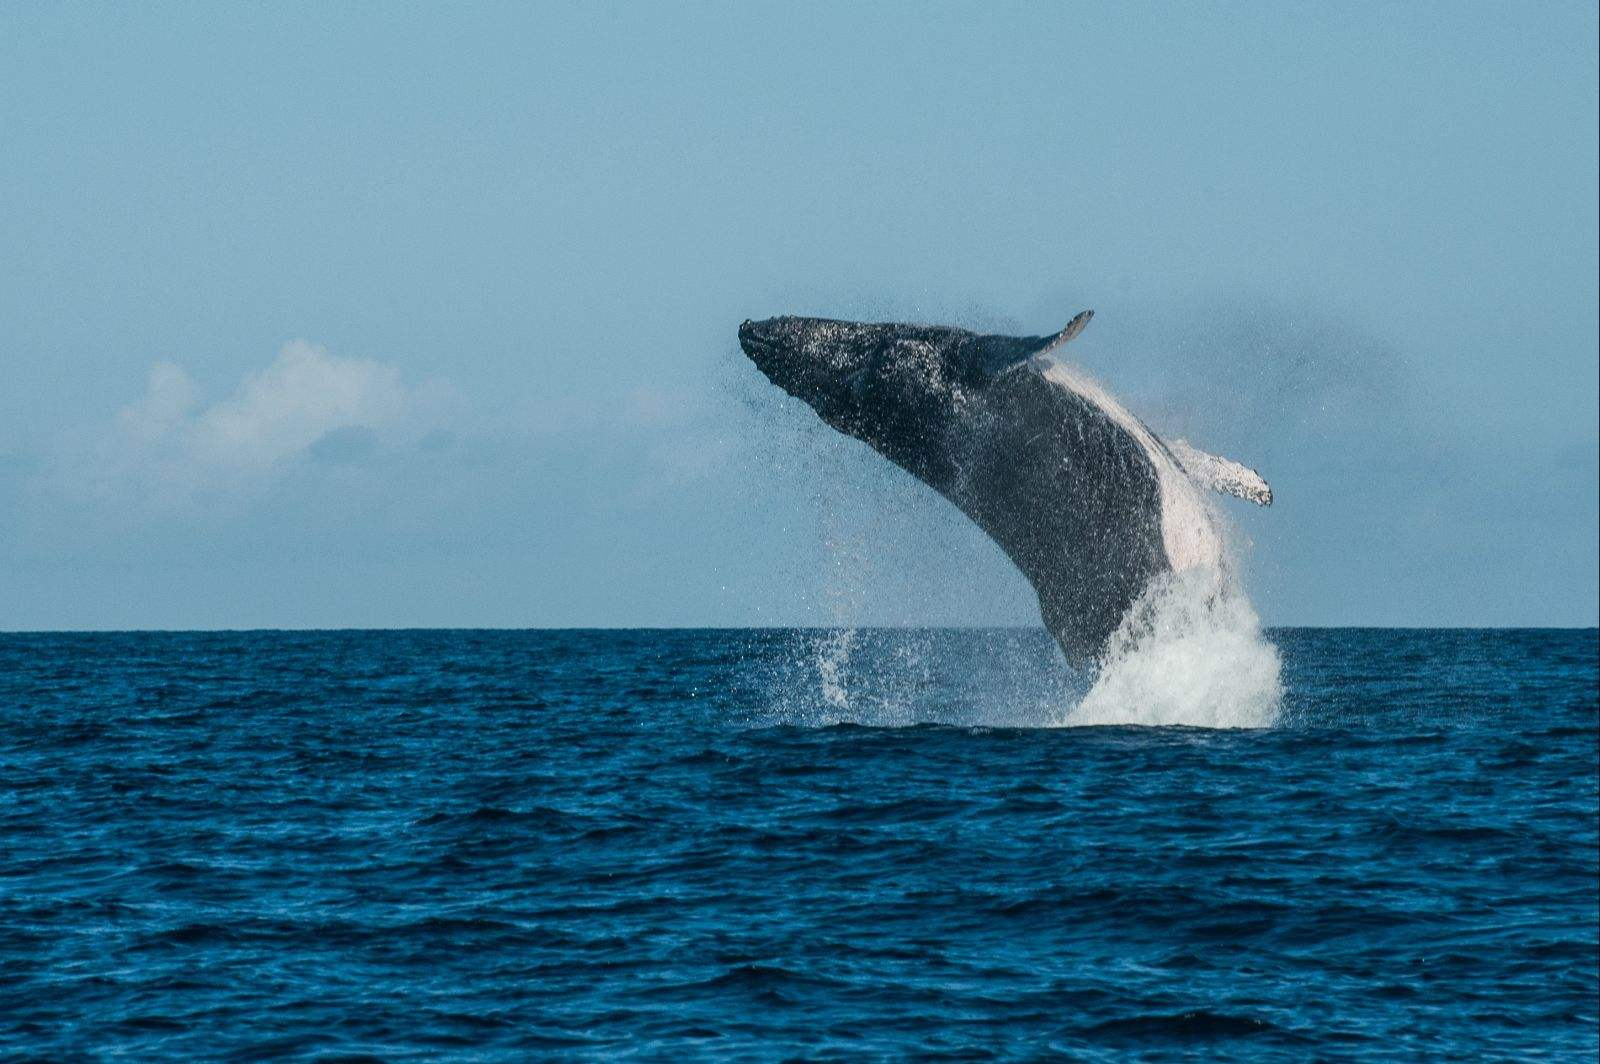fish: (722, 293, 1300, 726)
